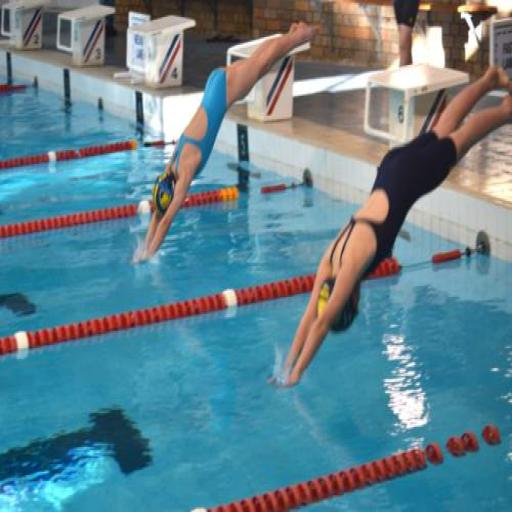swimming: (266, 60, 511, 393), (130, 17, 322, 268)
